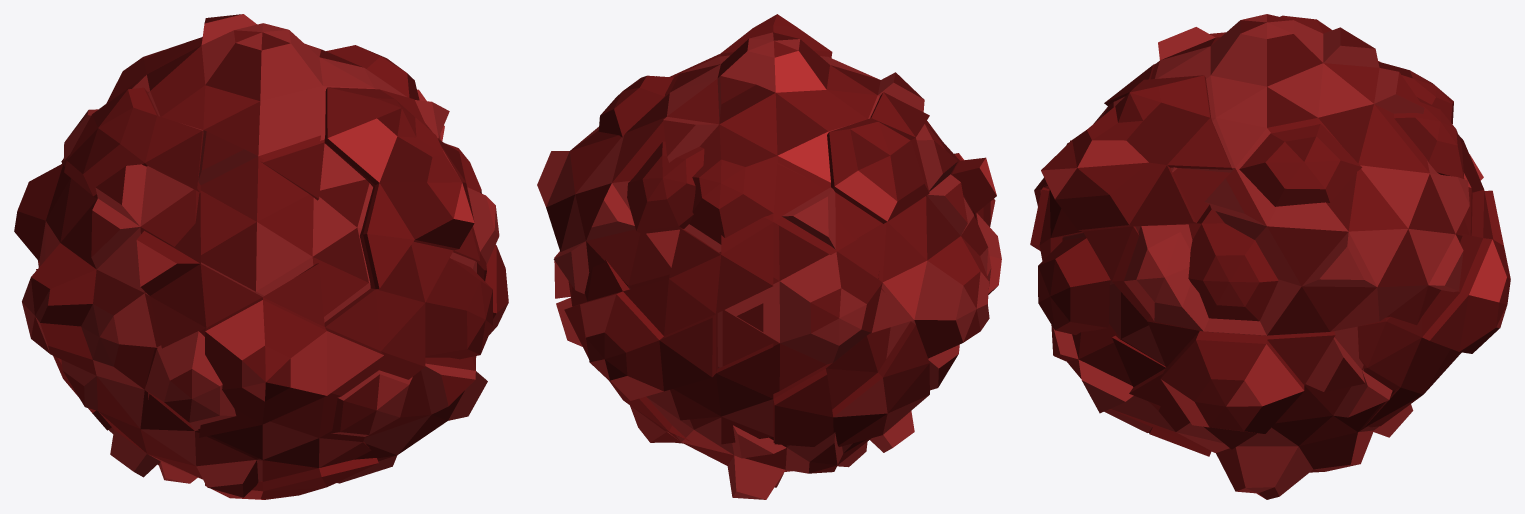
The model's file is Planeet - 2.fbx.
3 renders of one model, left to right at view 1: azimuth 30°, elevation 25°; view 2: azimuth 150°, elevation 25°; view 3: azimuth 270°, elevation 25°, orthographic. The views are drawn at different scales.
Parts seen in each view (by area): view 1: Sphere, Sphere_1; view 2: Sphere, Sphere_1; view 3: Sphere, Sphere_1.
Part boxes in pixels (bbox=[...]): Sphere: bbox=[14, 14, 499, 497]; Sphere_1: bbox=[36, 45, 508, 499]; Sphere: bbox=[537, 32, 1001, 499]; Sphere_1: bbox=[564, 14, 996, 446]; Sphere: bbox=[1051, 14, 1483, 499]; Sphere_1: bbox=[1030, 15, 1510, 456].
Bounding box in the file's own units: 423 × 414 × 414.
